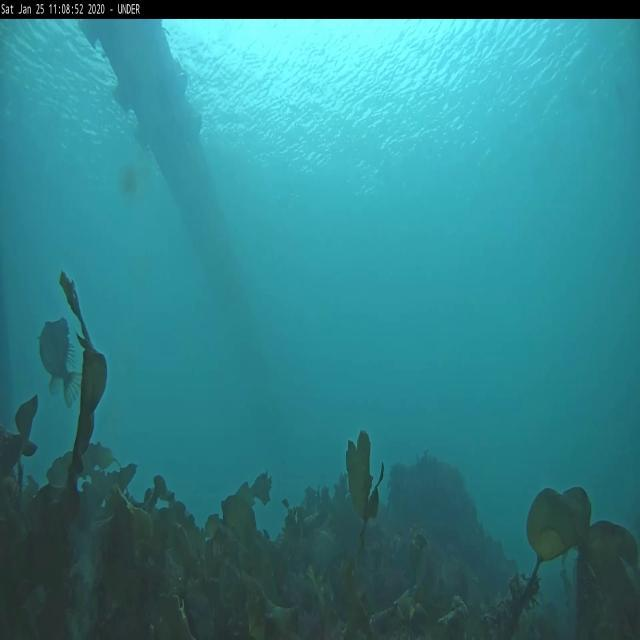fish: (39, 317, 85, 413)
